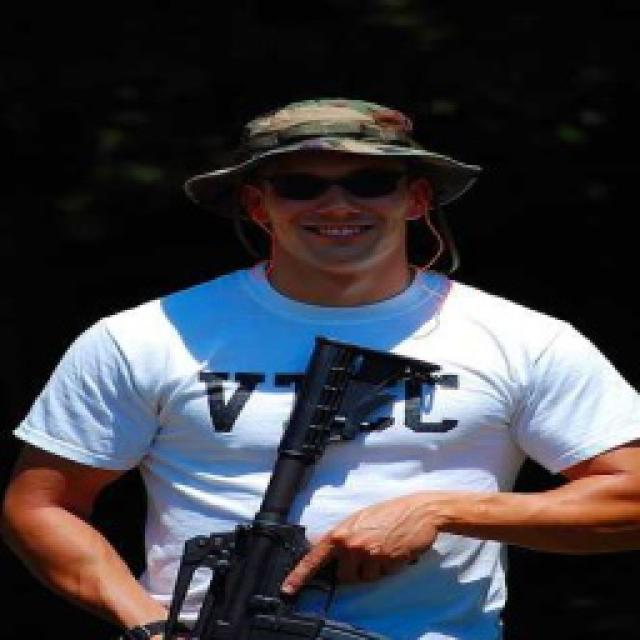long weapon: (155, 332, 453, 638)
